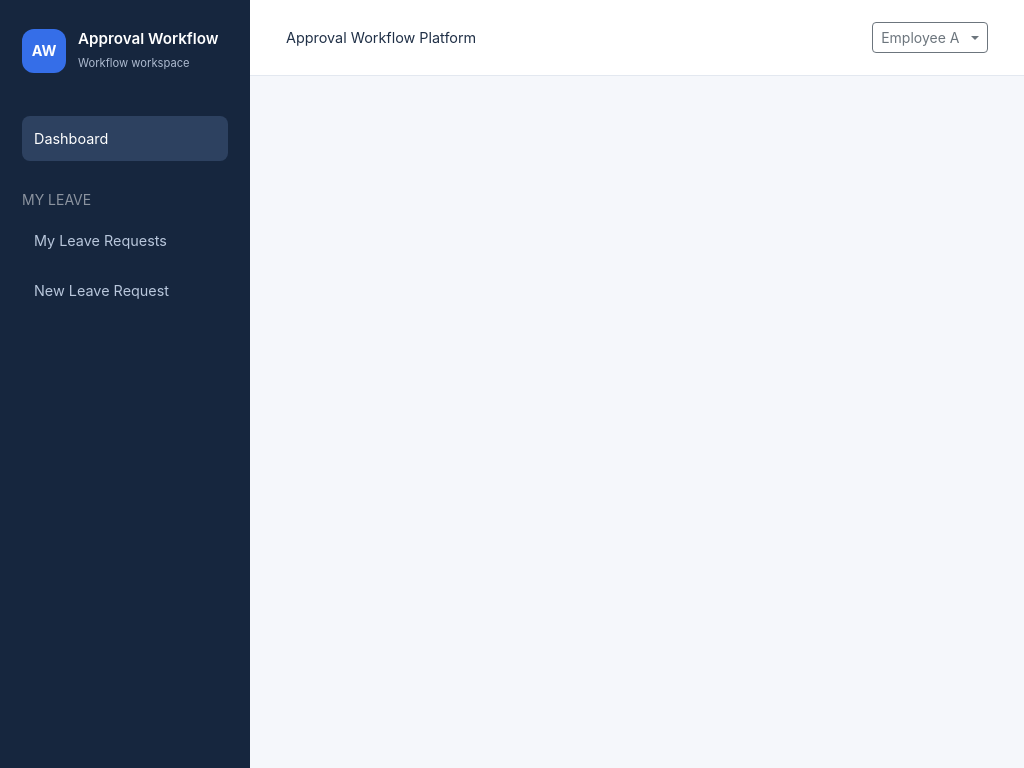
Test: supports Bootstrap arrow-key navigation and outside-click dismissal
Press ArrowDown in the button with aria-label "User menu for Employee A", box [872, 22, 988, 53]
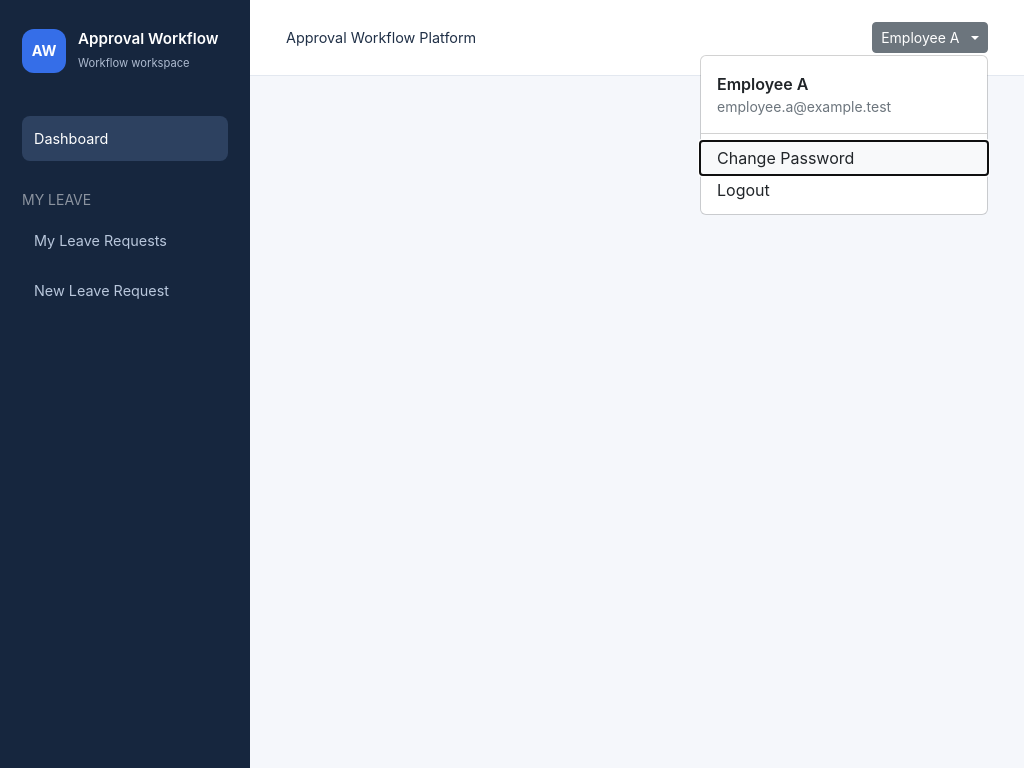
Press ArrowDown in the link "Change Password", box [701, 142, 987, 174]
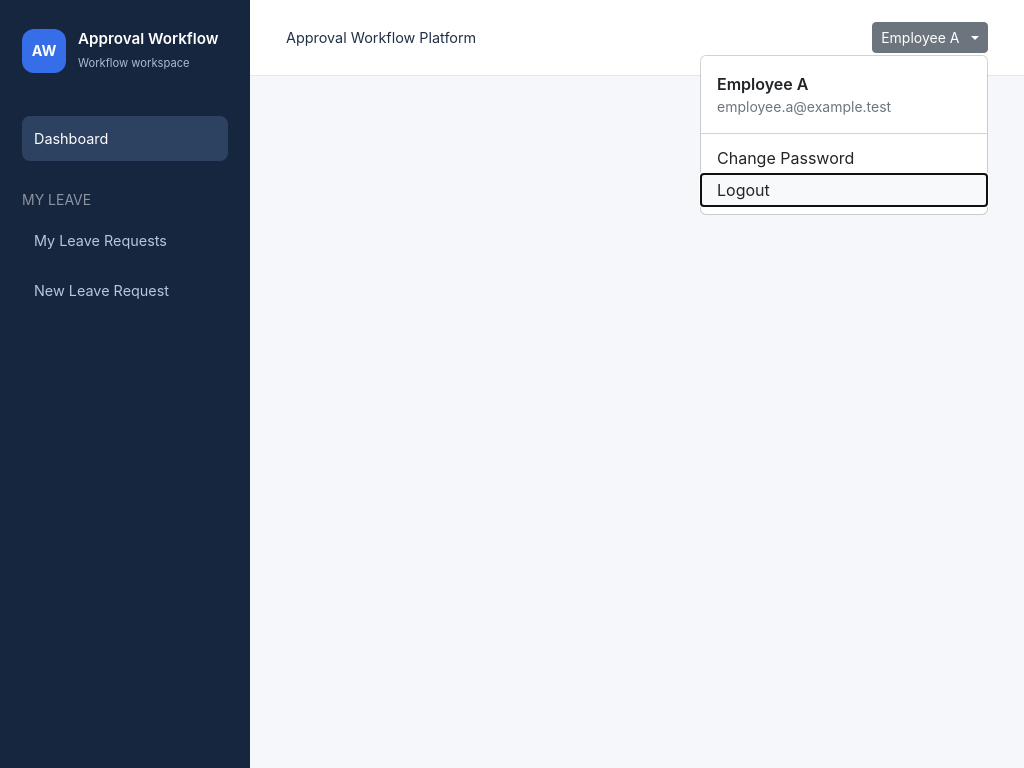
Click the element that starts with "Approval Workflow".
click(512, 384)  # box [0, 0, 1023, 767]
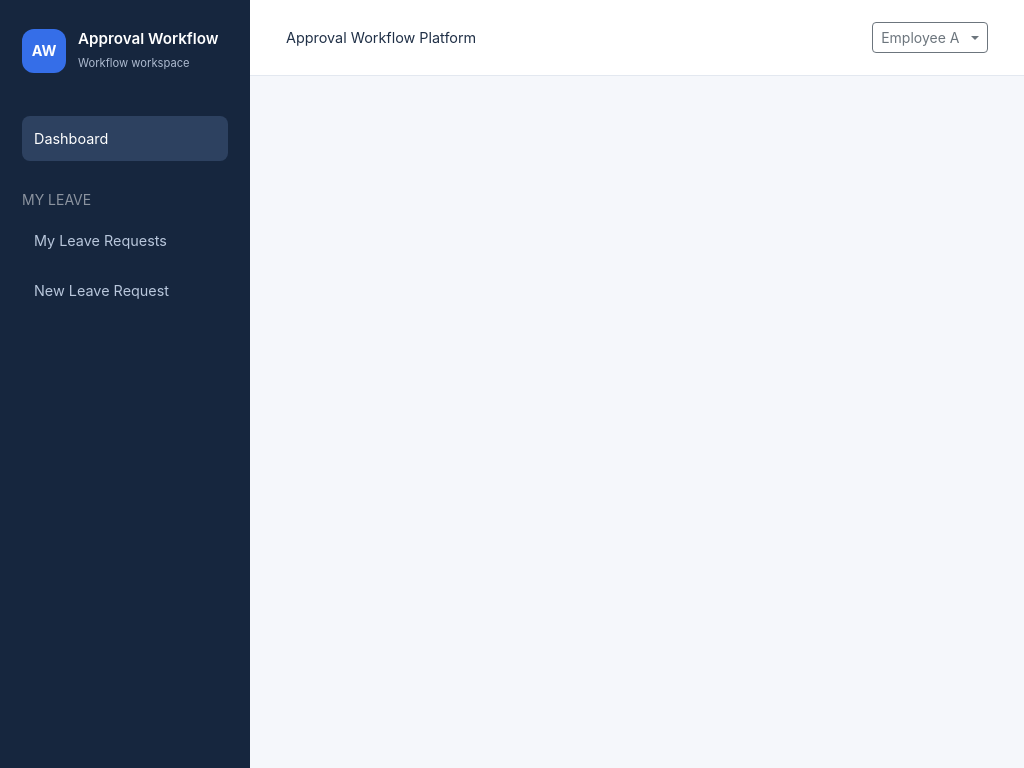
Now the button with aria-label "User menu for Employee A" is collapsed, box [872, 22, 988, 53]
